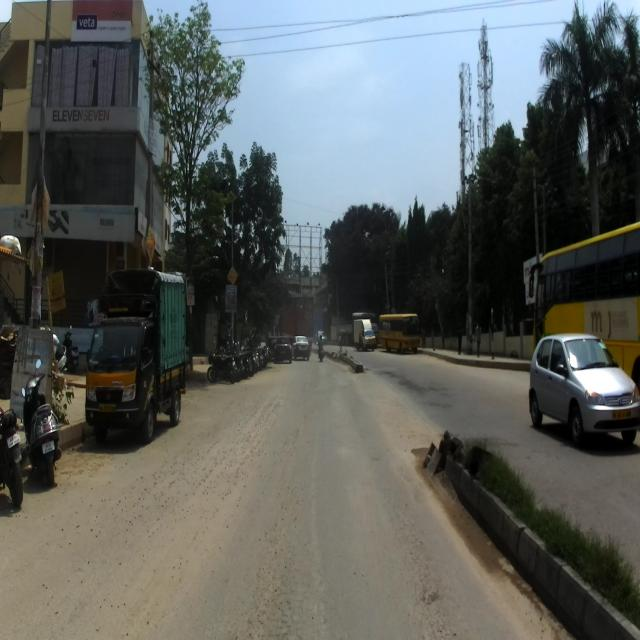bus: (528, 220, 639, 402)
car: (528, 331, 640, 447), (291, 333, 311, 361), (274, 333, 292, 363)
motorcycle: (0, 404, 30, 506)
scooter: (21, 358, 61, 487)
truck: (82, 263, 188, 442), (353, 318, 377, 352)
